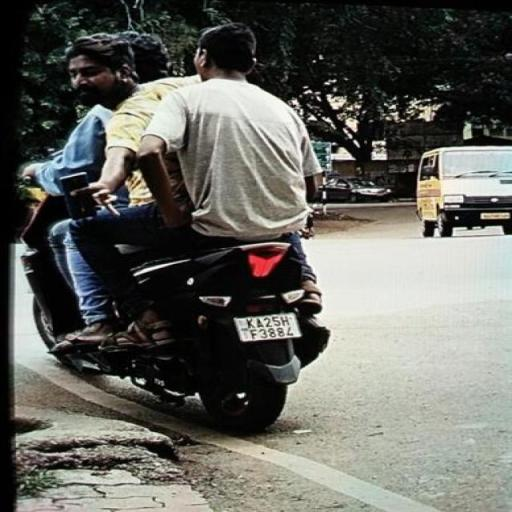tripple riding: (14, 21, 325, 250)
